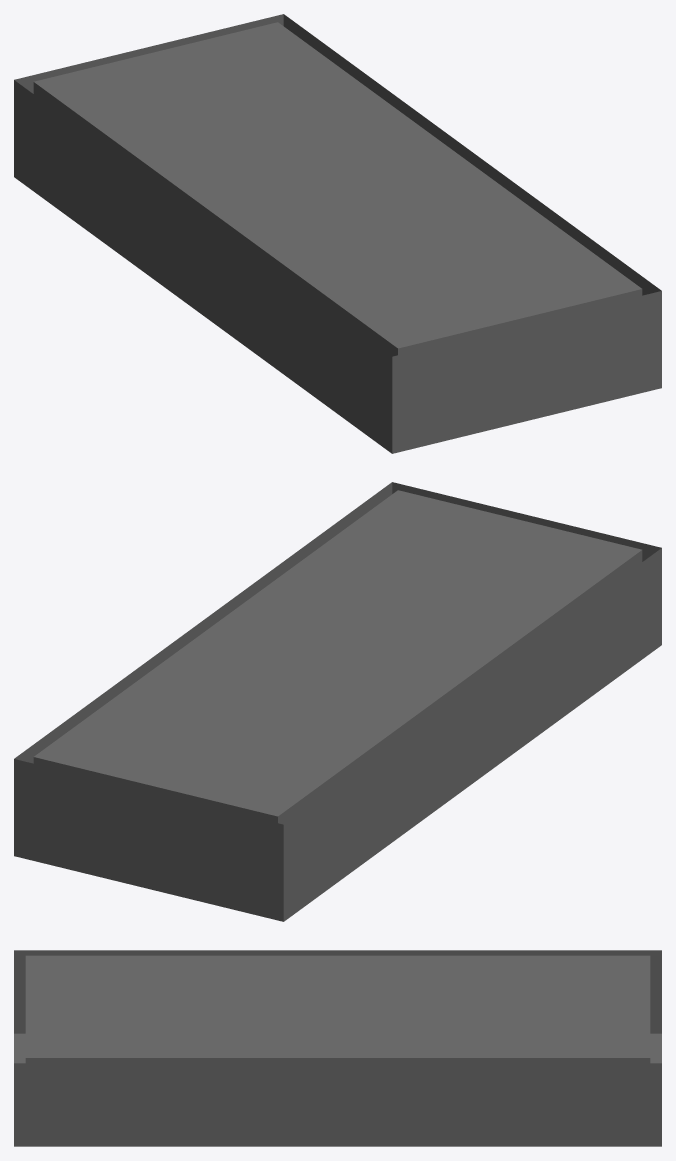
The model's file is Fume Hood.fbx.
3 views of the same model, one above another, from view 1: azimuth 30°, elevation 25°; view 2: azimuth 150°, elevation 25°; view 3: azimuth 270°, elevation 25° (orthographic). The views are drawn at different scales.
Parts seen in each view (by area): view 1: Fume Hood; view 2: Fume Hood; view 3: Fume Hood.
Part boxes in pixels (<box>): Fume Hood: <box>14,14,661,453</box>; Fume Hood: <box>14,482,661,921</box>; Fume Hood: <box>14,950,661,1146</box>.
Bounding box in the file's own units: 251 × 86.51 × 609.
